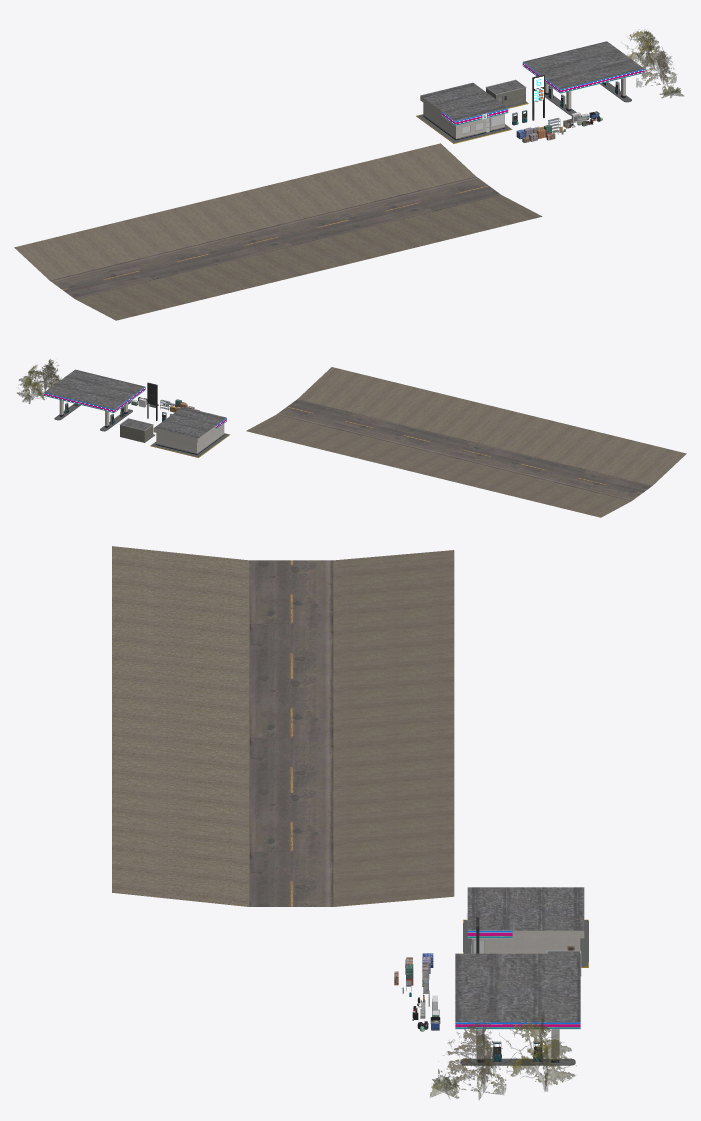
File: elbolilloduro_gas_station_props.glb
The picture shows the model from 3 angles, top to bottom: view 1: azimuth 30°, elevation 25°; view 2: azimuth 150°, elevation 25°; view 3: azimuth 270°, elevation 25°; orthographic projection. The views are drawn at different scales.
Visible parts, largest first — view 1: Road.001, The_ceiling, 6twelve.003, 6twelve, Tree_01, Bathrooms, Tree; view 2: Road.001, The_ceiling, 6twelve.003, 6twelve, Bathrooms, Tree, Tree_01, Asphalt_01, 6twelve_Sign; view 3: Road.001, The_ceiling, 6twelve.003, Tree, Tree_01, 6twelve.
Part boxes in pixels (<box>): Road.001: <box>14,143,542,320</box>; The_ceiling: <box>522,41,644,93</box>; 6twelve.003: <box>420,82,507,120</box>; 6twelve: <box>420,96,508,140</box>; Tree_01: <box>636,44,676,92</box>; Bathrooms: <box>485,79,526,106</box>; Tree: <box>621,29,658,70</box>; Road.001: <box>246,367,686,517</box>; The_ceiling: <box>44,369,145,412</box>; 6twelve.003: <box>154,407,226,438</box>; 6twelve: <box>153,418,226,454</box>; Bathrooms: <box>119,418,153,442</box>; Tree: <box>17,365,46,403</box>; Tree_01: <box>38,359,61,395</box>; Asphalt_01: <box>150,433,229,457</box>; 6twelve_Sign: <box>147,382,157,420</box>; Road.001: <box>112,546,454,906</box>; The_ceiling: <box>455,953,580,1029</box>; 6twelve.003: <box>467,887,584,930</box>; Tree: <box>499,1012,576,1091</box>; Tree_01: <box>438,1019,506,1099</box>; 6twelve: <box>467,930,584,953</box>.
Bounding box in the file's own units: 174 × 12.62 × 63.74.
Materials: 55 (53 with a texture image).
